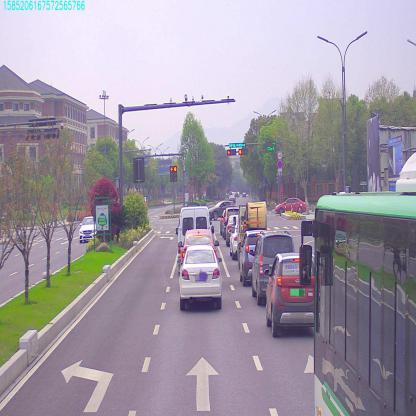traffic-light: (228, 142, 245, 148), (239, 148, 247, 156), (227, 150, 236, 154)
